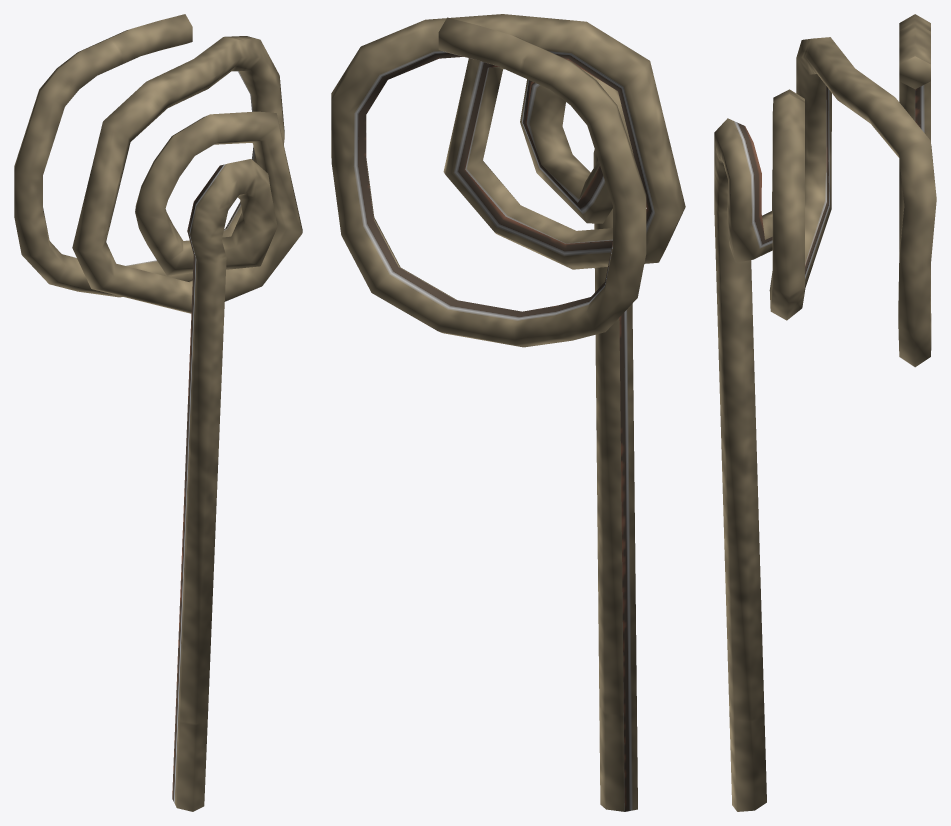
Rendered from rope.fbx.
3 renders of one model, left to right at view 1: azimuth 30°, elevation 25°; view 2: azimuth 150°, elevation 25°; view 3: azimuth 270°, elevation 25°, orthographic. The views are drawn at different scales.
Visible parts, largest first — view 1: Line001; view 2: Line001; view 3: Line001.
Boxes of the visible parts, x1,y1,x2,y2 form: Line001: [14, 14, 302, 811]; Line001: [331, 14, 685, 811]; Line001: [714, 14, 936, 811].
Size of the model in its own units: 33.47 by 84.96 by 21.7.
